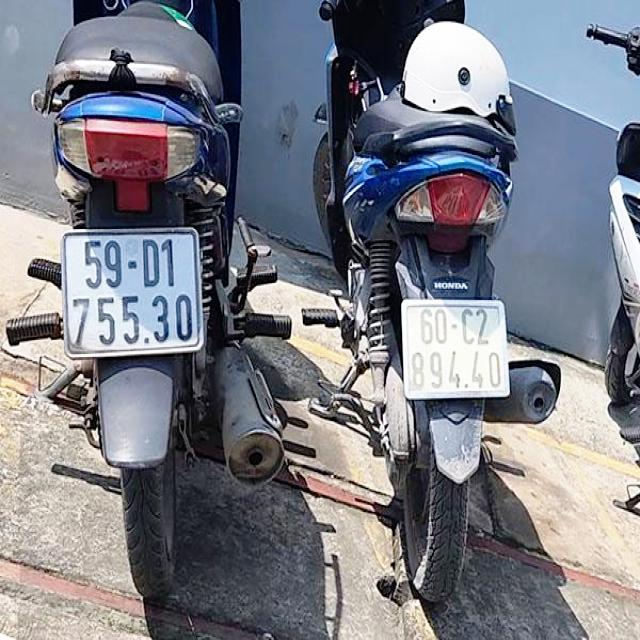license_plate: (61, 233, 202, 359), (405, 301, 509, 400)
